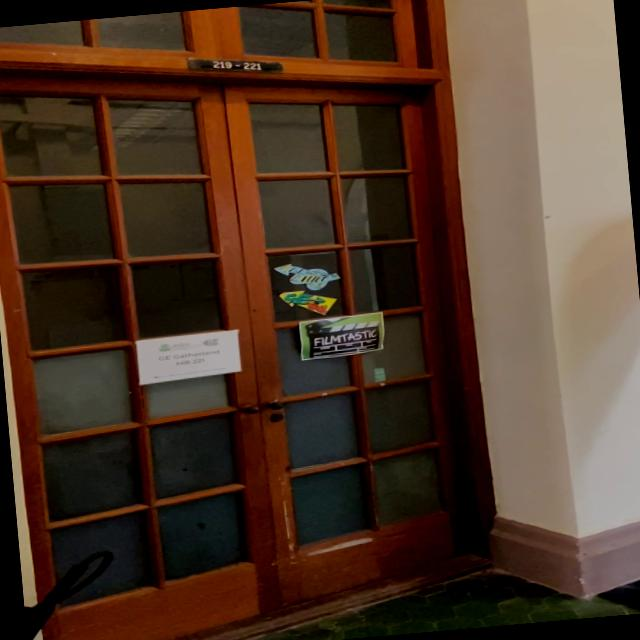room221: (188, 50, 283, 76)
